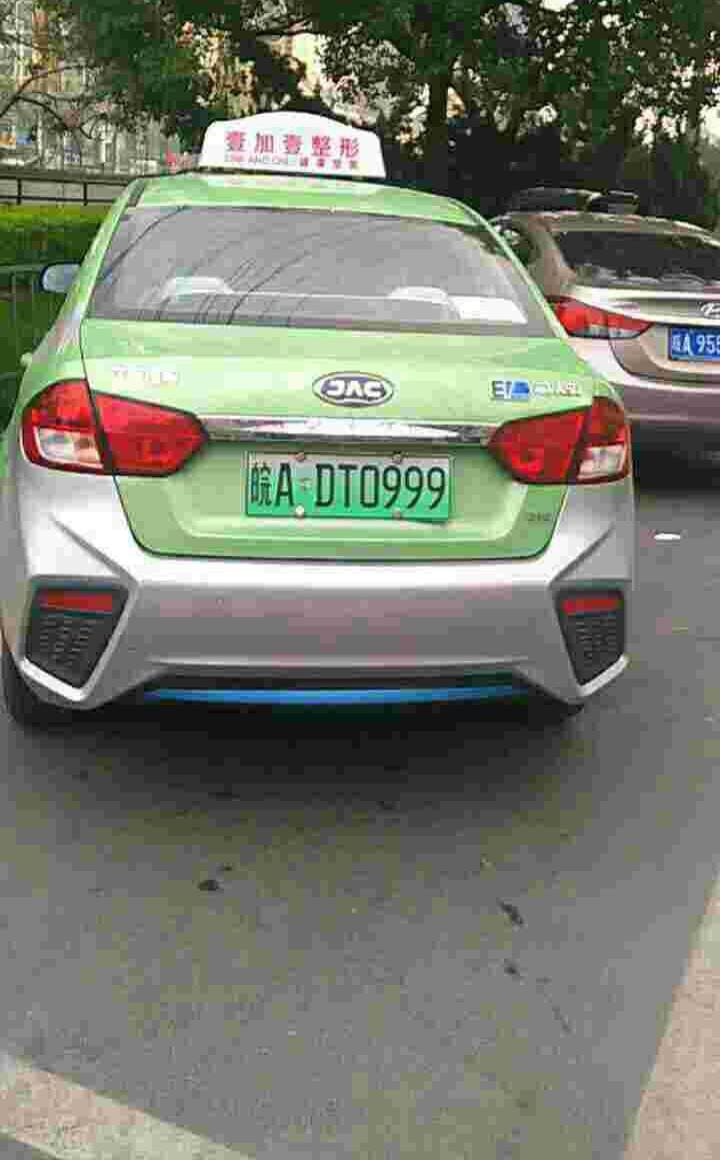car_green: (243, 448, 455, 521)
